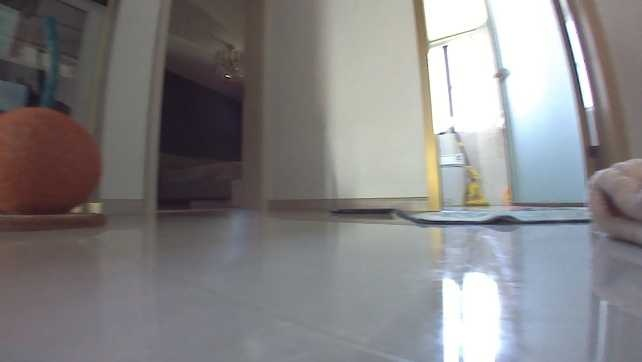blanket: (397, 206, 594, 225)
door_anno: (485, 0, 621, 206)
toilet: (437, 132, 467, 208)
weight_scale: (328, 203, 400, 215)
